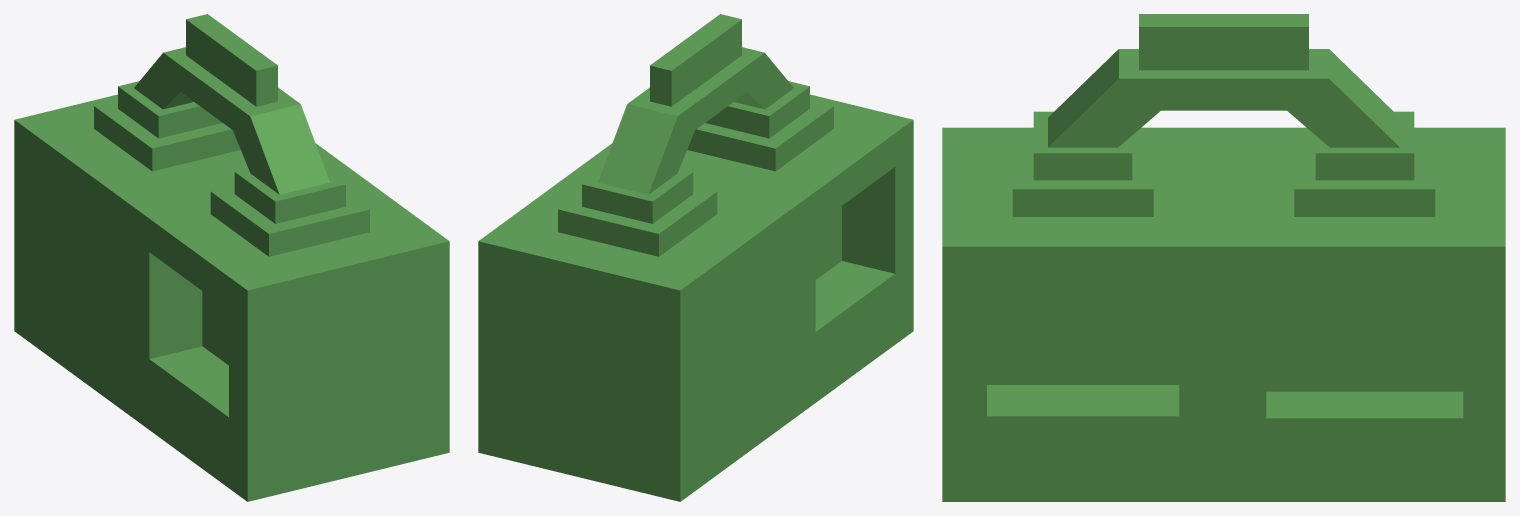
Rendered from clonerPlaceholder.fbx.
3 renders of one model, left to right at view 1: azimuth 30°, elevation 25°; view 2: azimuth 150°, elevation 25°; view 3: azimuth 270°, elevation 25°, orthographic. The views are drawn at different scales.
Parts seen in each view (by area): view 1: Cube; view 2: Cube; view 3: Cube.
Boxes of the visible parts, x1,y1,x2,y2 form: Cube: [14, 14, 449, 501]; Cube: [478, 14, 913, 501]; Cube: [942, 14, 1505, 501].
Size of the model in its own units: 400 by 200 by 331.
